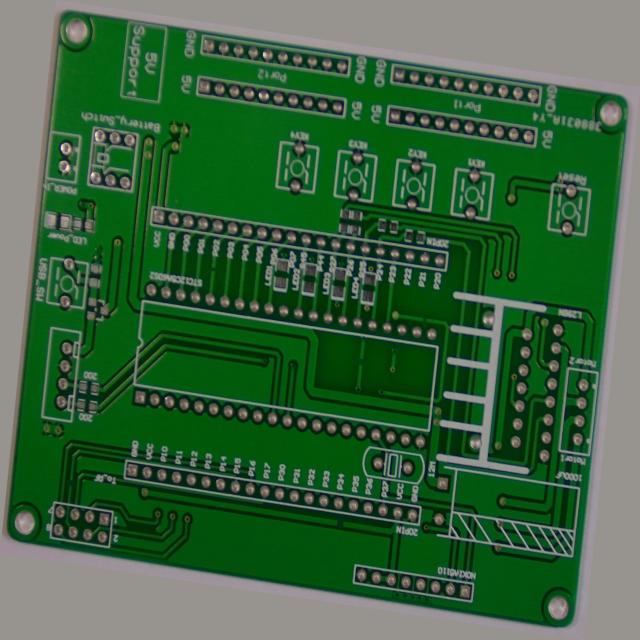open_circuit: (357, 540, 370, 555), (364, 352, 374, 369), (427, 295, 438, 308), (65, 541, 73, 556), (195, 274, 204, 286)
